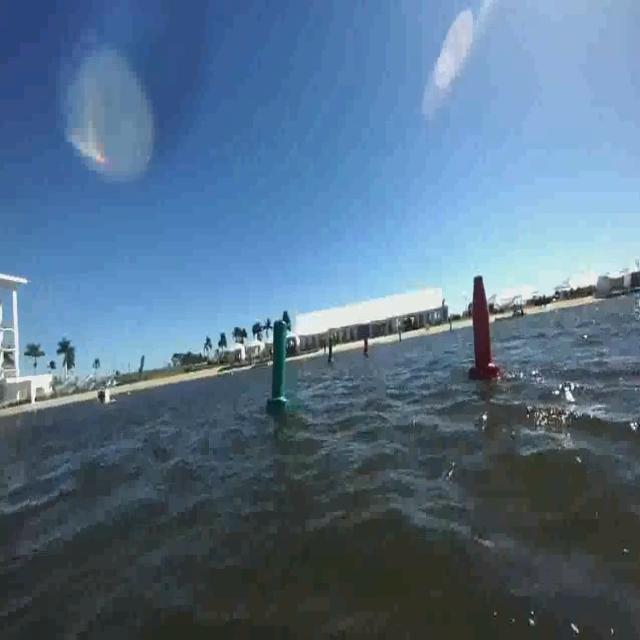green-column-buoy: (268, 319, 290, 409)
red-column-buoy: (467, 270, 500, 380)
